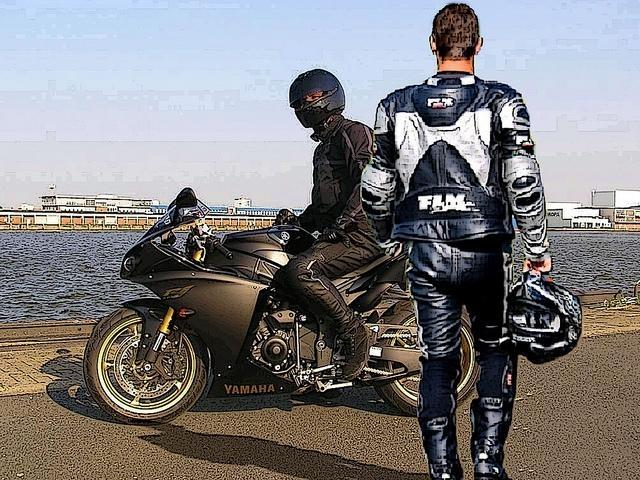motorcycle: (85, 189, 479, 427)
